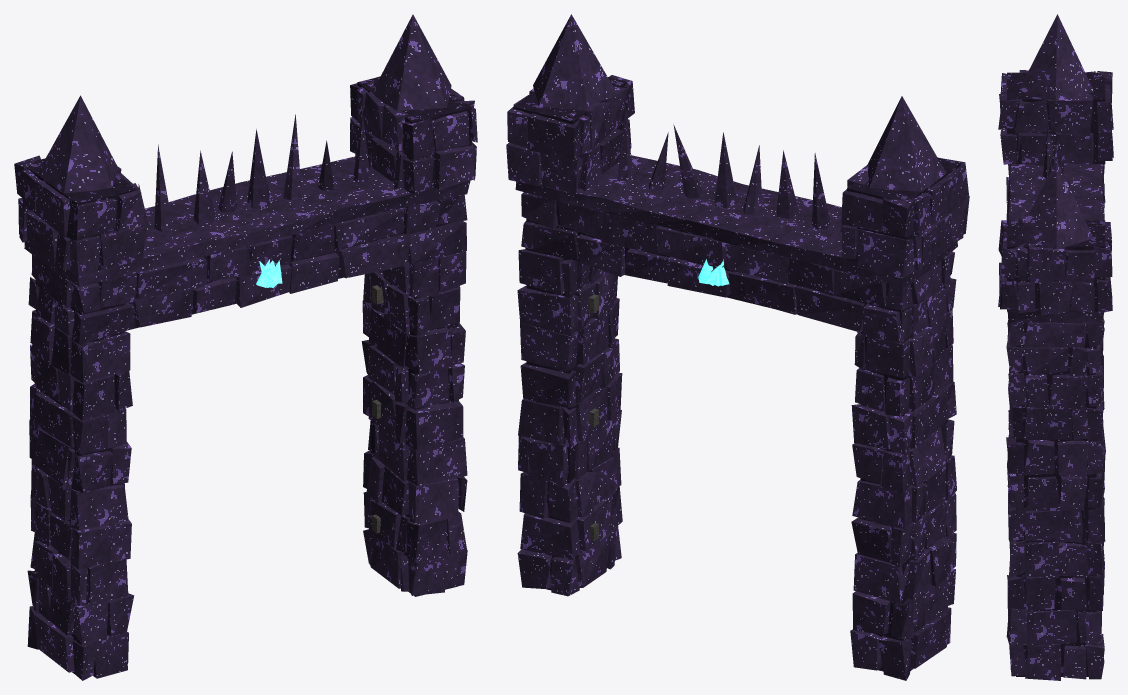
Rendered from portal_obsidiana_gigante.glb.
3 views of the same model, side by side, from view 1: azimuth 30°, elevation 25°; view 2: azimuth 150°, elevation 25°; view 3: azimuth 270°, elevation 25° (orthographic). The views are drawn at different scales.
Parts seen in each view (by area): view 1: portal_obsidiana_gigante_obsidiana; view 2: portal_obsidiana_gigante_obsidiana; view 3: portal_obsidiana_gigante_obsidiana.
Part boxes in pixels (x1,y1,x2,y2): portal_obsidiana_gigante_obsidiana: [14, 14, 477, 680]; portal_obsidiana_gigante_obsidiana: [506, 14, 969, 680]; portal_obsidiana_gigante_obsidiana: [998, 14, 1113, 680].
Size of the model in its own units: 9.59 by 12.54 by 2.59.
3 materials, 3 textured.
